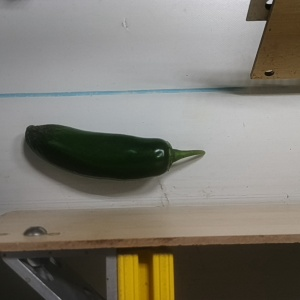Cut Point: (152, 137, 181, 175)
